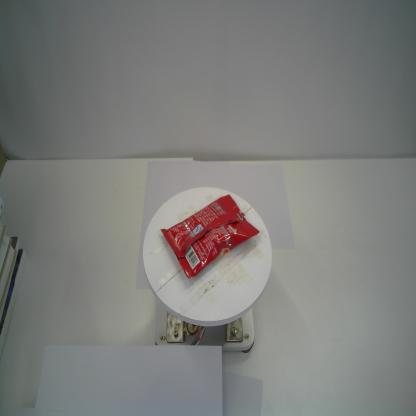Instant Drink: (159, 193, 260, 279)
